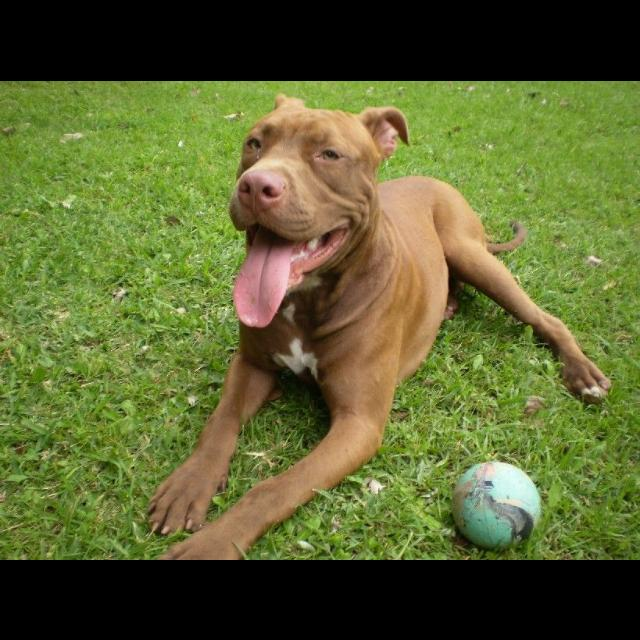am_pit_bull_terrier: (147, 93, 613, 559)
